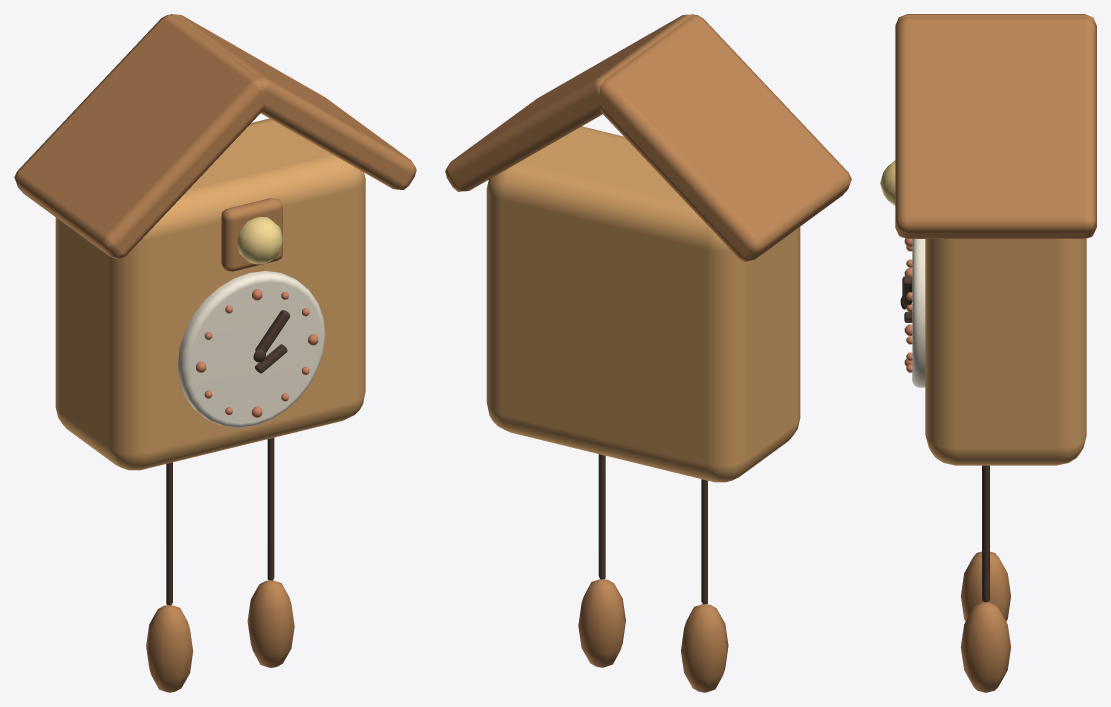
The model's file is cuckoo_wall_clock.glb.
3 views of the same model, side by side, from view 1: azimuth 30°, elevation 25°; view 2: azimuth 150°, elevation 25°; view 3: azimuth 270°, elevation 25° (orthographic). The views are drawn at different scales.
Visible parts, largest first — view 1: cuckoo_wall_clock_mesh; view 2: cuckoo_wall_clock_mesh; view 3: cuckoo_wall_clock_mesh.
Boxes of the visible parts, x1,y1,x2,y2 form: cuckoo_wall_clock_mesh: (14, 14, 416, 692); cuckoo_wall_clock_mesh: (445, 14, 851, 692); cuckoo_wall_clock_mesh: (880, 14, 1096, 692).
Size of the model in its own units: 0.3708 by 0.7127 by 0.215.
